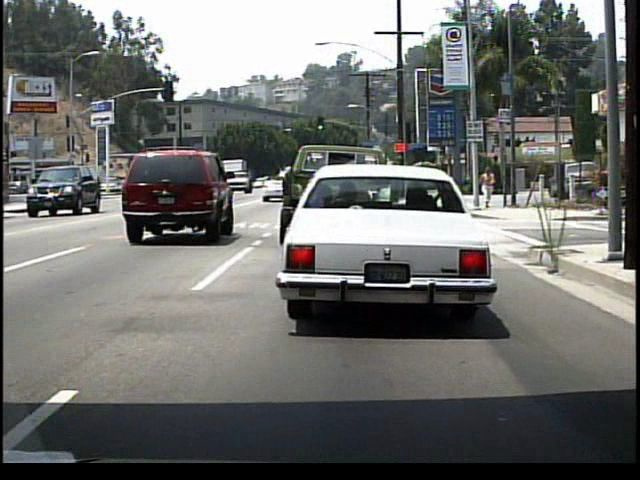person: (480, 166, 496, 211)
